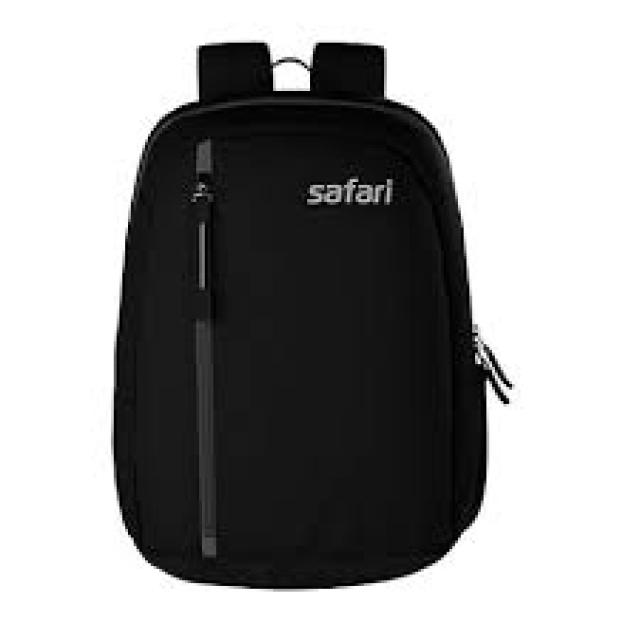backpack: (108, 37, 512, 589)
